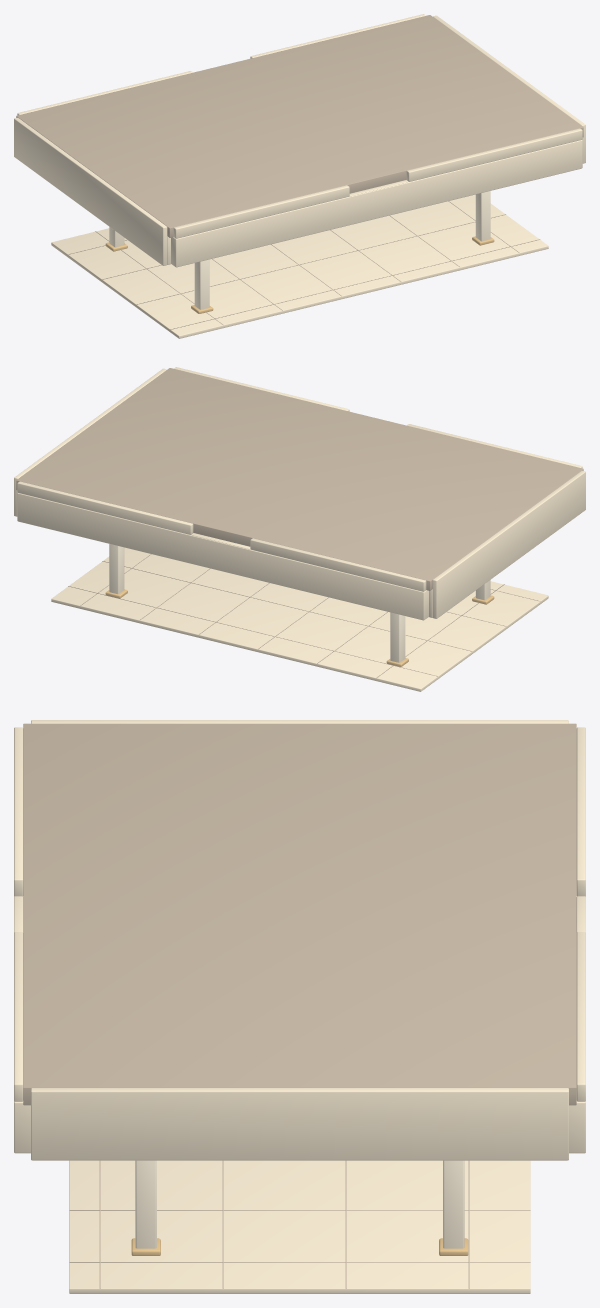
Rendered from castle_district_library_purified.glb.
3 views of the same model, one above another, from view 1: azimuth 30°, elevation 25°; view 2: azimuth 150°, elevation 25°; view 3: azimuth 270°, elevation 25° (orthographic). The views are drawn at different scales.
Parts seen in each view (by area): view 1: castle_district_library_purified_surface; view 2: castle_district_library_purified_surface; view 3: castle_district_library_purified_surface.
Part boxes in pixels (x1,y1,x2,y2): castle_district_library_purified_surface: [14, 14, 585, 338]; castle_district_library_purified_surface: [14, 367, 585, 691]; castle_district_library_purified_surface: [14, 720, 585, 1293].
Bounding box in the file's own units: 28.6 × 8.12 × 18.6.
